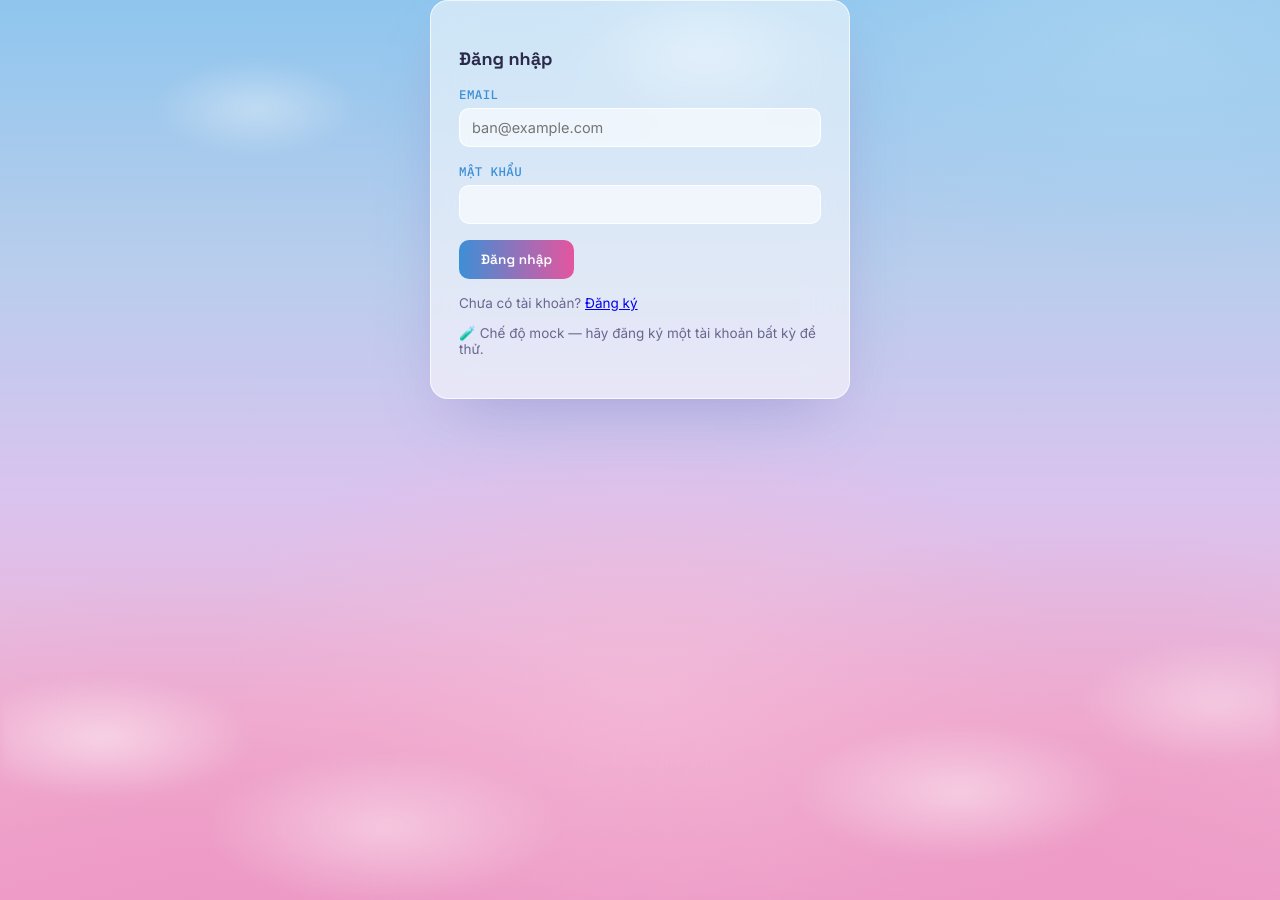
Test case: xác thực khách (mock) › đăng nhập sai mật khẩu báo lỗi và không lưu phiên
Type "khach@demo.vn" into the field named "Email" at (640, 128), box x1=459 y1=108 x2=821 y2=147
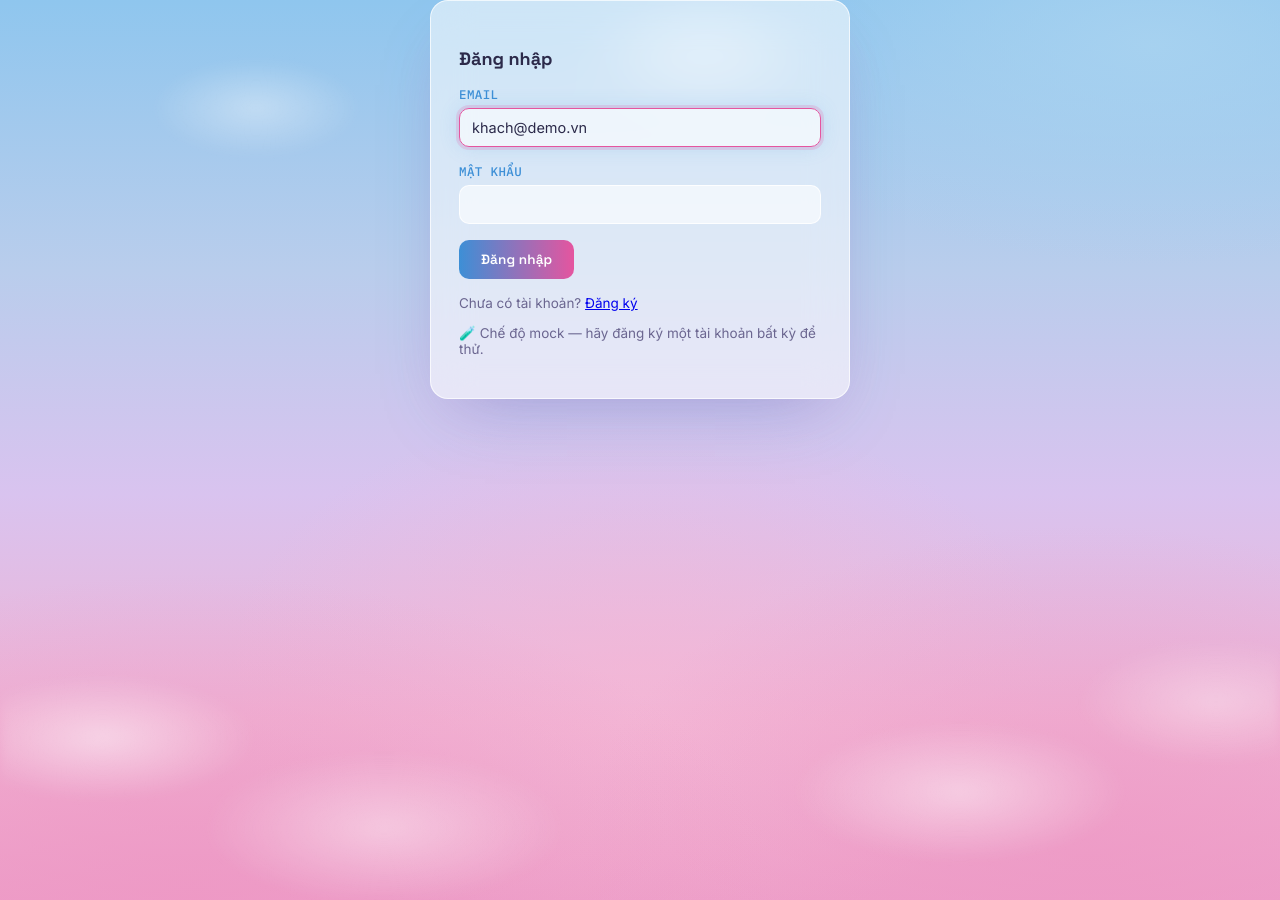
Type "sai-mat-khau" into the password field named "Mật khẩu" at (640, 204), box x1=459 y1=185 x2=821 y2=224
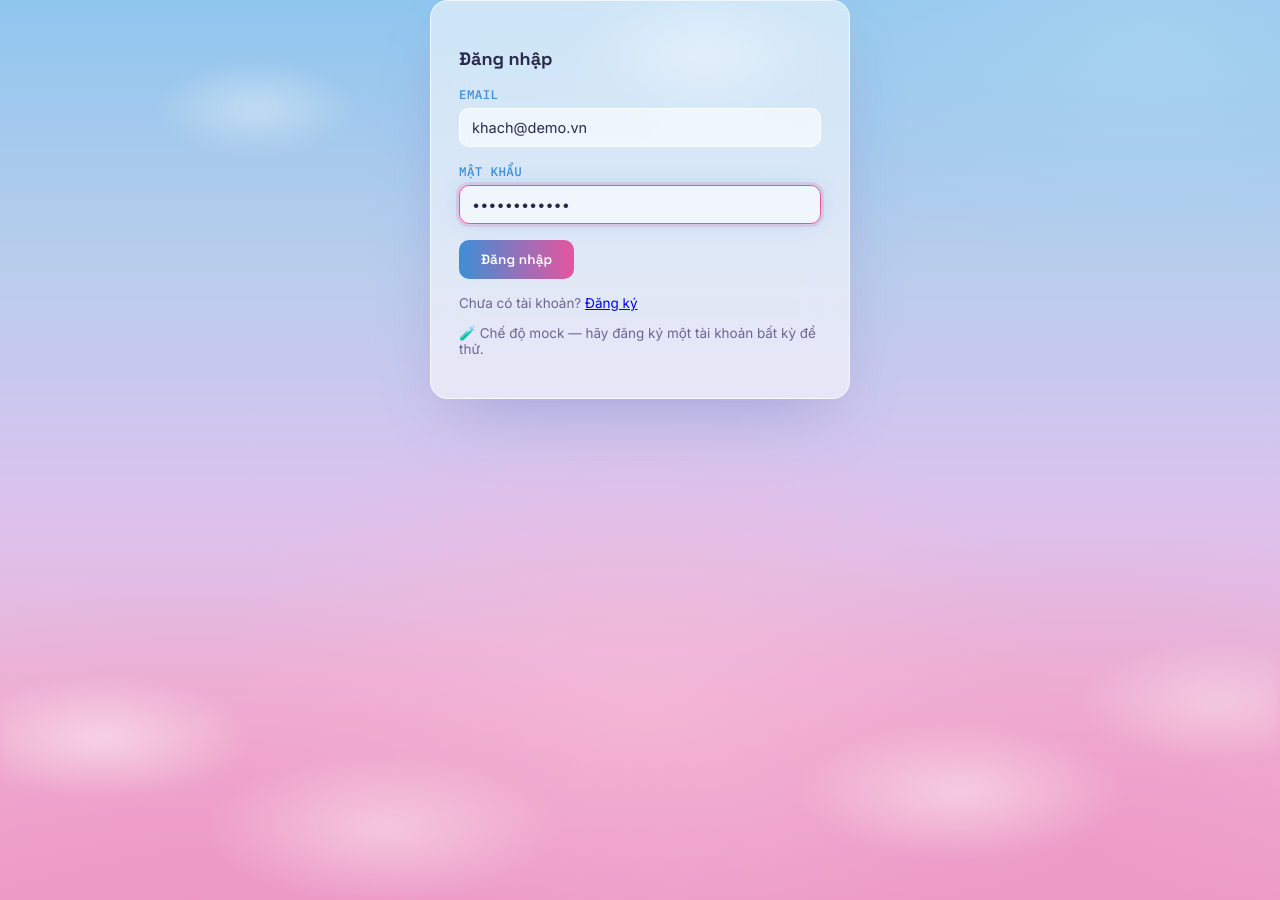
Click the button "Đăng nhập" at (517, 260), box x1=459 y1=240 x2=574 y2=279
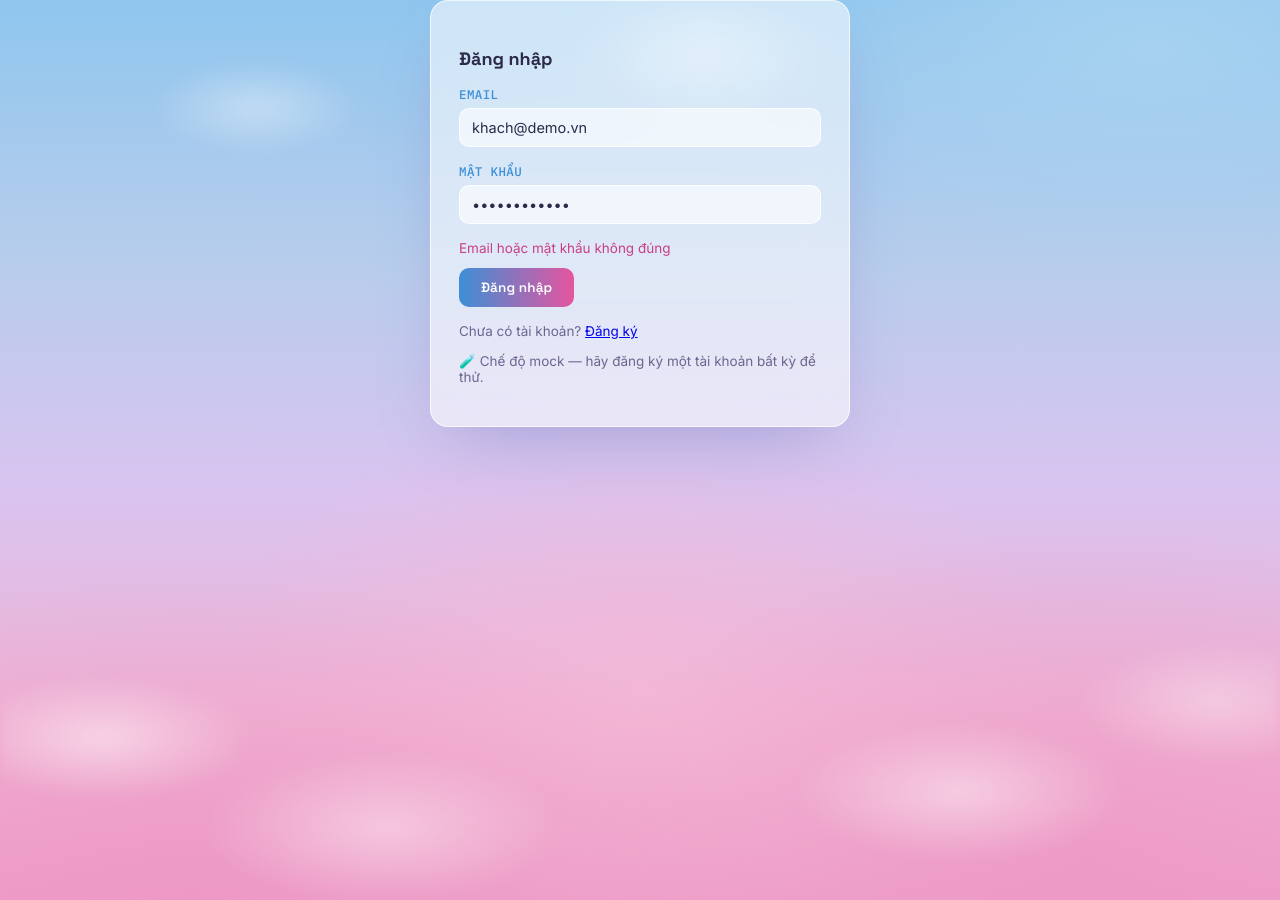
expect the text "Email hoặc mật khẩu không đúng" is shown: met, box x1=459 y1=240 x2=670 y2=256
